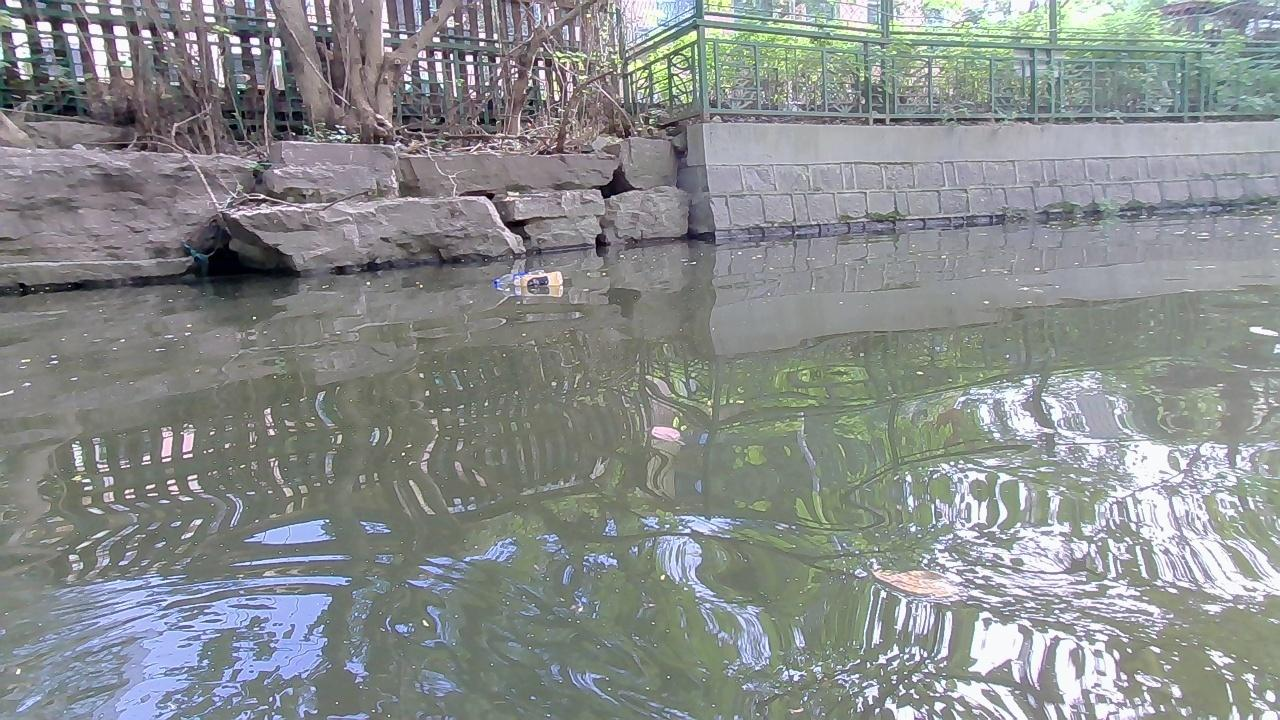bottle: (515, 269, 563, 291), (490, 267, 542, 285)
